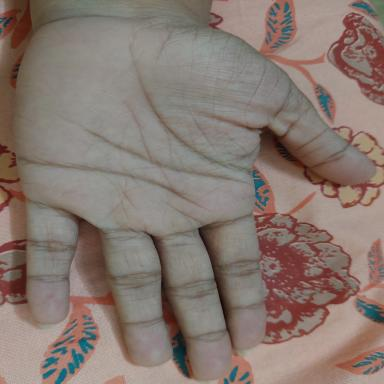normal skin: (15, 0, 375, 380)
